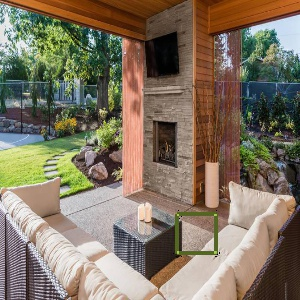square: (173, 210, 220, 258)
